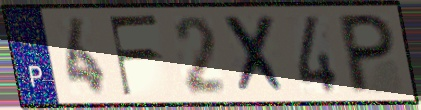2: (171, 14, 230, 97)
4: (63, 14, 109, 97), (295, 12, 340, 96)
F: (105, 13, 161, 100)
P: (340, 11, 397, 97)
X: (221, 12, 292, 98)
